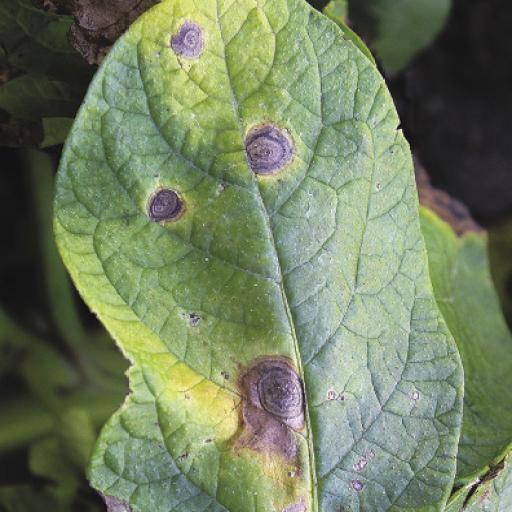Early Blight: (53, 2, 465, 512)
